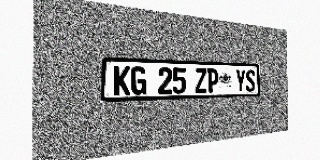2: (158, 67, 172, 94)
5: (173, 67, 186, 94)
G: (131, 66, 146, 95)
K: (114, 66, 130, 95)
P: (207, 68, 218, 93)
S: (246, 69, 255, 92)
Y: (235, 69, 245, 92)
Z: (195, 68, 207, 93)
